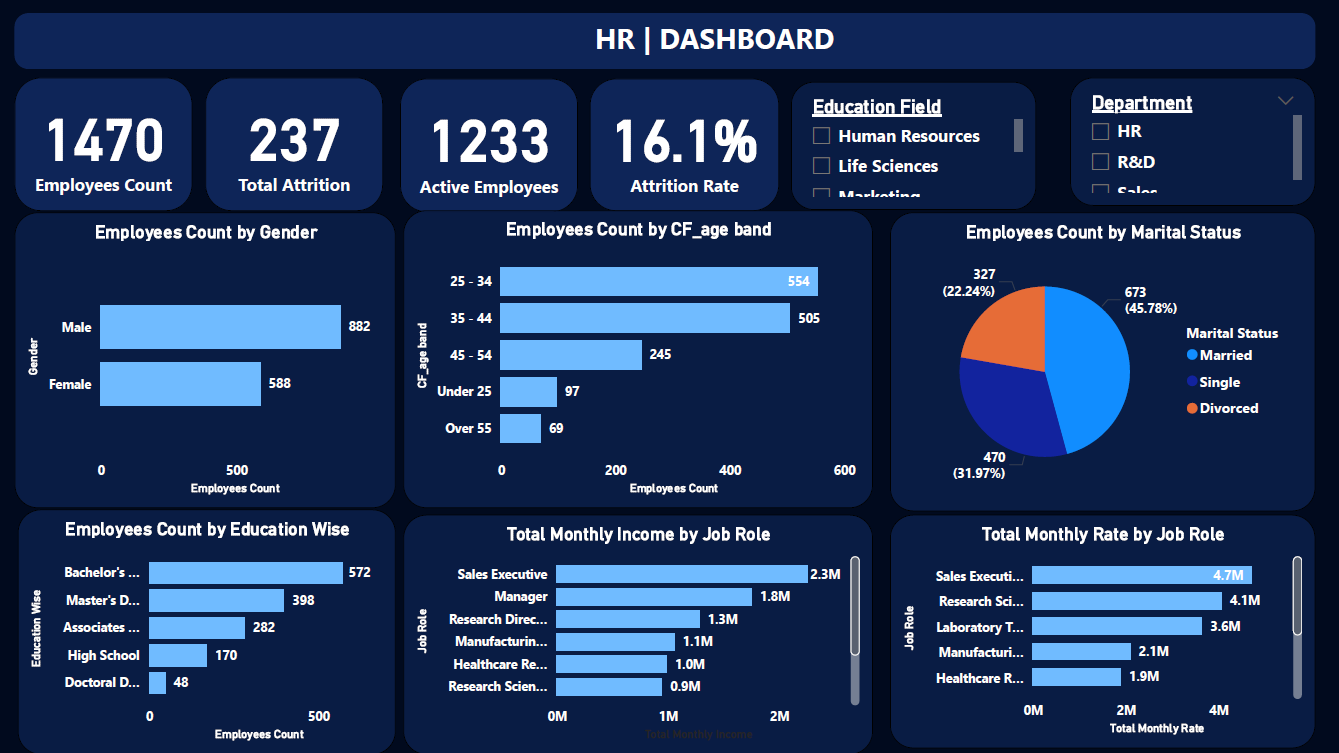

This screenshot's page, from the dashboard's own definition file:
{"tool":"powerbi","page":{"name":"DASHBOARD","canvas":[1280,720],"ordinal":0},"visuals":[{"type":"shape","box":[21.7,15.7,1235.4,53.1],"z":0},{"type":"textbox","box":[568.2,15.7,270.2,51.9],"z":1000},{"type":"card","fields":{"Values":["DATA.Total Employees"]},"box":[21.7,77.2,168.9,126.7],"z":2000},{"type":"card","fields":{"Values":["DATA.Total Attrition"]},"box":[202.7,77.2,168.9,126.7],"z":3000},{"type":"card","fields":{"Values":["DATA.Active Employees"]},"box":[388.5,78.4,168.9,126.7],"z":4000},{"type":"card","fields":{"Values":["DATA.Attrition Rate"]},"box":[568.2,78.4,179.8,125.5],"z":5000},{"type":"barChart","fields":{"Y":["DATA.Total Employees"],"Category":["DATA.Gender"]},"box":[21.7,205.1,361.9,281.1],"z":6000},{"type":"barChart","fields":{"Category":["DATA.CF_age band"],"Y":["DATA.Total Employees"]},"box":[390.9,202.7,446.4,283.5],"z":7000},{"type":"pieChart","fields":{"Category":["DATA.Marital Status"],"Y":["DATA.Total Employees"]},"box":[853,205.1,404.2,283.5],"z":8000},{"type":"barChart","fields":{"Category":["DATA.Education Wise"],"Y":["DATA.Total Employees"]},"box":[25.3,487.4,358.3,232.8],"z":9000},{"type":"clusteredBarChart","fields":{"Category":["DATA.Job Role"],"Y":["DATA.Total Monthly Income"]},"box":[390.9,492.2,446.4,228],"z":10000},{"type":"clusteredBarChart","fields":{"Category":["DATA.Job Role"],"Y":["DATA.Total Monthly Rate"]},"box":[853,492.2,404.2,222],"z":11000},{"type":"slicer","fields":{"Values":["DATA.Education Field"]},"box":[758.9,80.8,232.8,121.9],"z":12000},{"type":"slicer","fields":{"Values":["DATA.Department"]},"box":[1024.3,77.2,232.8,121.9],"z":13000}]}

Visuals, with their boxes in screenshot pixels (x1, y1, x2, y2), scaled from the page's 1280x720 canvas onto the 1339x753 screenshot:
shape: {"x1": 23, "y1": 16, "x2": 1315, "y2": 72}
textbox: {"x1": 594, "y1": 16, "x2": 877, "y2": 71}
card - DATA.Total Employees: {"x1": 23, "y1": 81, "x2": 199, "y2": 213}
card - DATA.Total Attrition: {"x1": 212, "y1": 81, "x2": 389, "y2": 213}
card - DATA.Active Employees: {"x1": 406, "y1": 82, "x2": 583, "y2": 215}
card - DATA.Attrition Rate: {"x1": 594, "y1": 82, "x2": 782, "y2": 213}
barChart - DATA.Total Employees x DATA.Gender: {"x1": 23, "y1": 215, "x2": 401, "y2": 508}
barChart - DATA.CF_age band x DATA.Total Employees: {"x1": 409, "y1": 212, "x2": 876, "y2": 508}
pieChart - DATA.Marital Status x DATA.Total Employees: {"x1": 892, "y1": 215, "x2": 1315, "y2": 511}
barChart - DATA.Education Wise x DATA.Total Employees: {"x1": 26, "y1": 510, "x2": 401, "y2": 752}
clusteredBarChart - DATA.Job Role x DATA.Total Monthly Income: {"x1": 409, "y1": 515, "x2": 876, "y2": 752}
clusteredBarChart - DATA.Job Role x DATA.Total Monthly Rate: {"x1": 892, "y1": 515, "x2": 1315, "y2": 747}
slicer - DATA.Education Field: {"x1": 794, "y1": 85, "x2": 1037, "y2": 212}
slicer - DATA.Department: {"x1": 1072, "y1": 81, "x2": 1315, "y2": 208}
